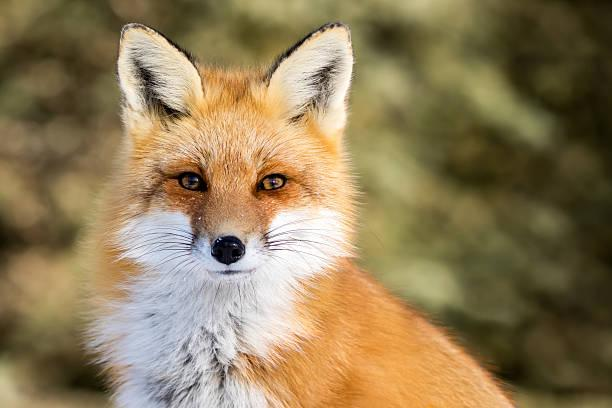fox: (28, 0, 532, 408)
